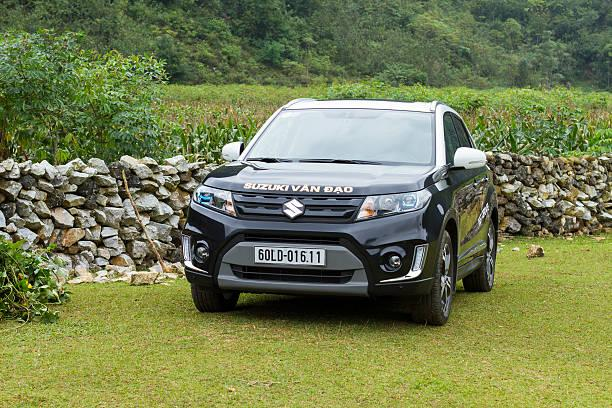suzuki: (280, 197, 312, 222)
